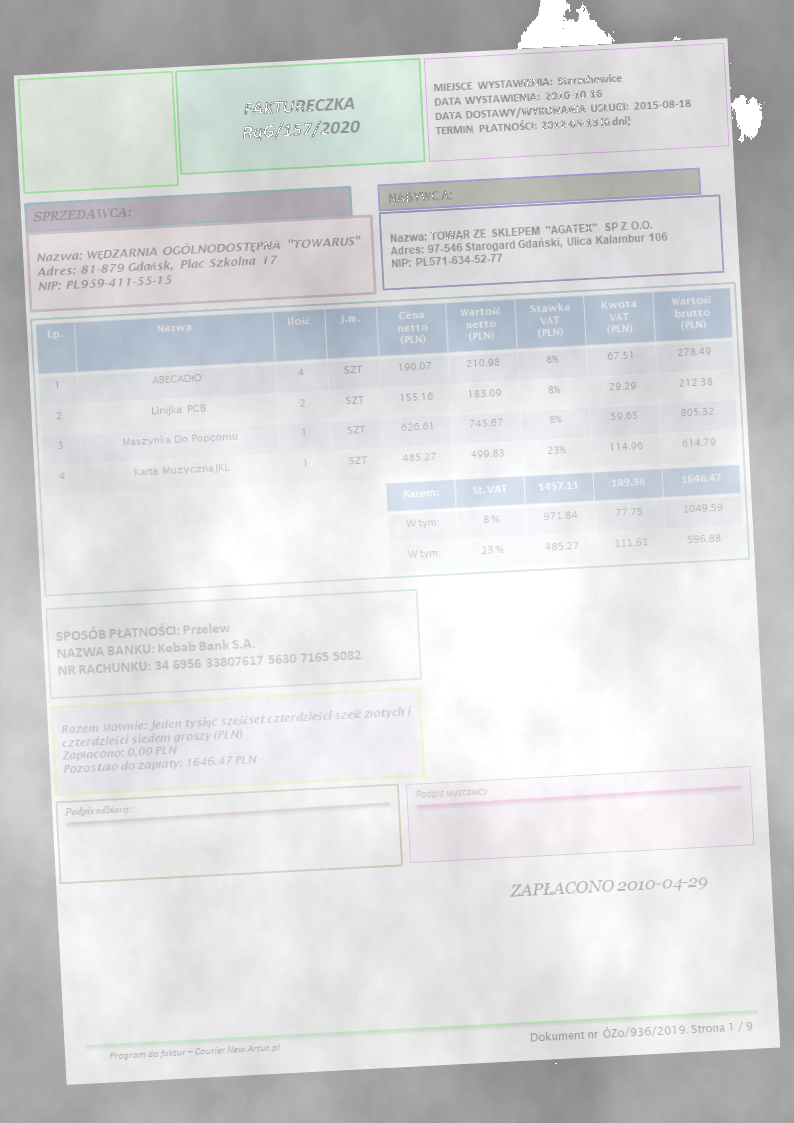Table: (34, 286, 740, 497), (384, 464, 745, 573)
TextBox: (58, 703, 416, 777), (52, 612, 365, 680), (33, 233, 364, 293), (430, 68, 694, 137), (387, 217, 669, 269), (238, 93, 362, 146), (507, 871, 710, 903), (528, 1019, 754, 1045), (105, 1040, 282, 1064), (30, 205, 133, 224), (413, 784, 491, 802), (385, 187, 455, 207), (62, 801, 136, 818)
